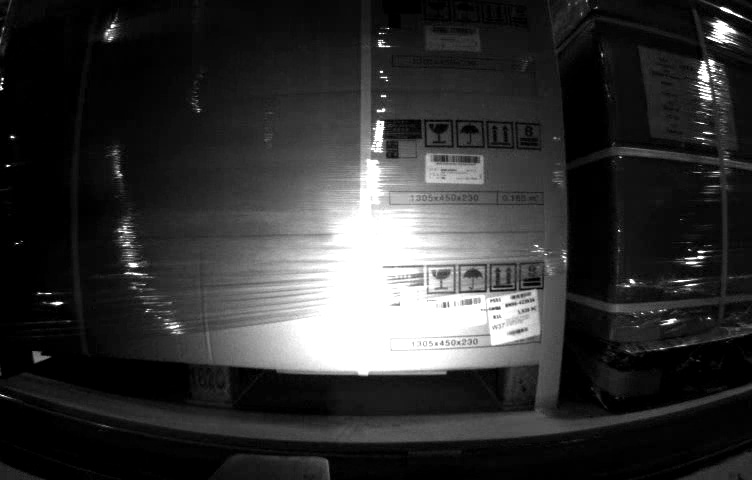True Barcode: (485, 287, 539, 342)
